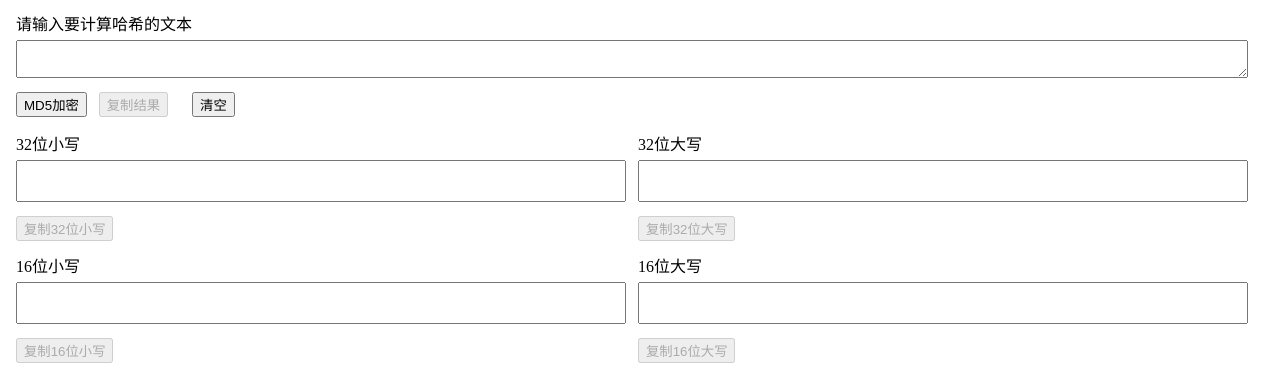
Test case: developer and text tools › produces both standard MD5 lengths
Type "abc" into the text box labelled "请输入要计算哈希的文本" at [632, 59], box [16,40,1248,78]
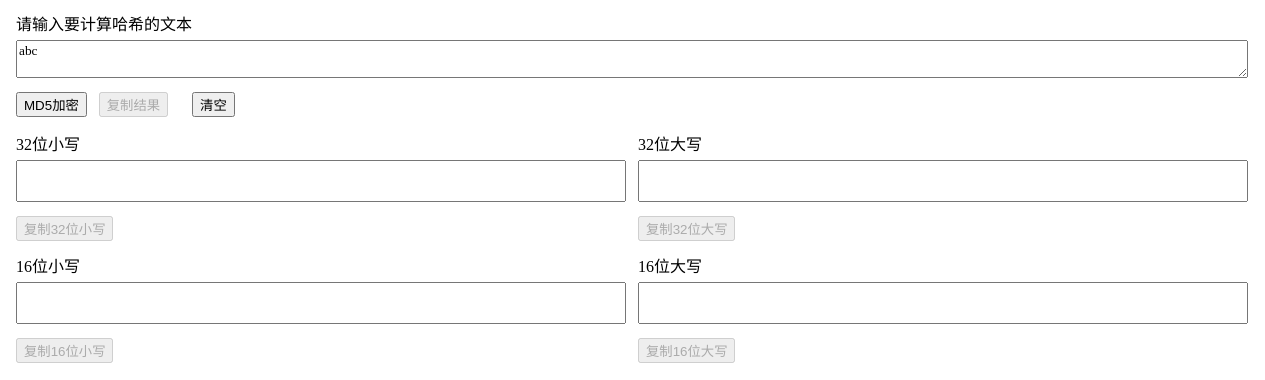
Click the button "MD5加密" at [51, 104], box [16,92,87,117]
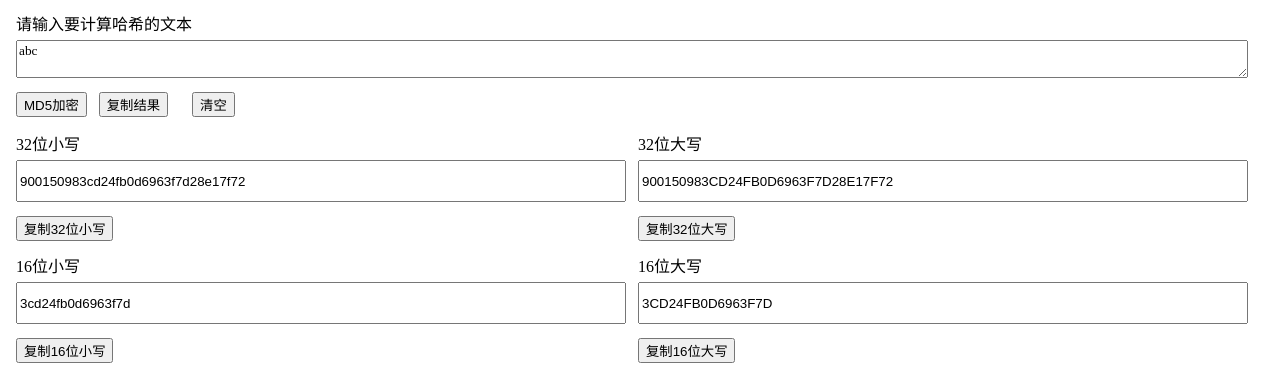
Result: the field labelled "32位小写" holds "900150983cd24fb0d6963f7d28e17f72" at [16,160,626,202]
Result: the field labelled "16位大写" holds "3CD24FB0D6963F7D" at [638,282,1248,324]
